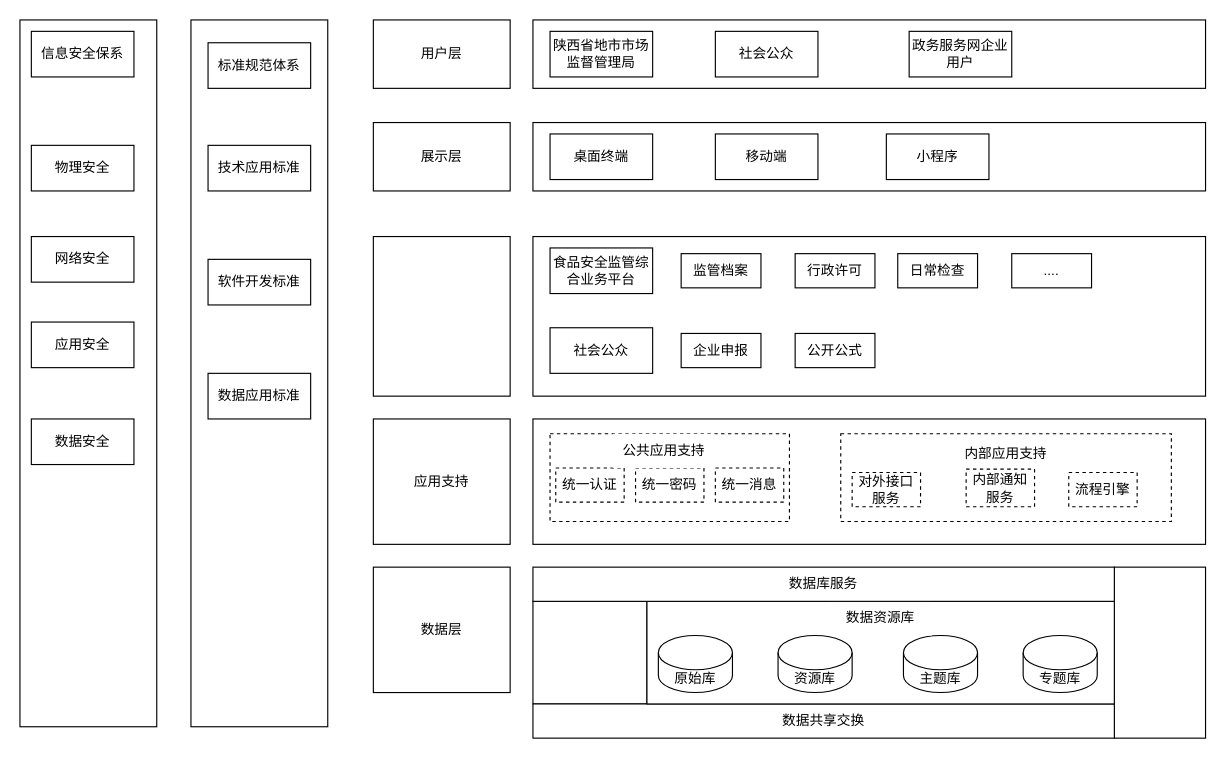
The diagram is 1226 pixels wide and 758 high, and some of its shapes have lost their labels. The box of each missing label's shape, as (x1, y1, x2, y2) in pixels:
业务应用层: (372, 235, 510, 396)
数据处理: (532, 600, 647, 704)
数据库管理: (1113, 566, 1206, 738)
